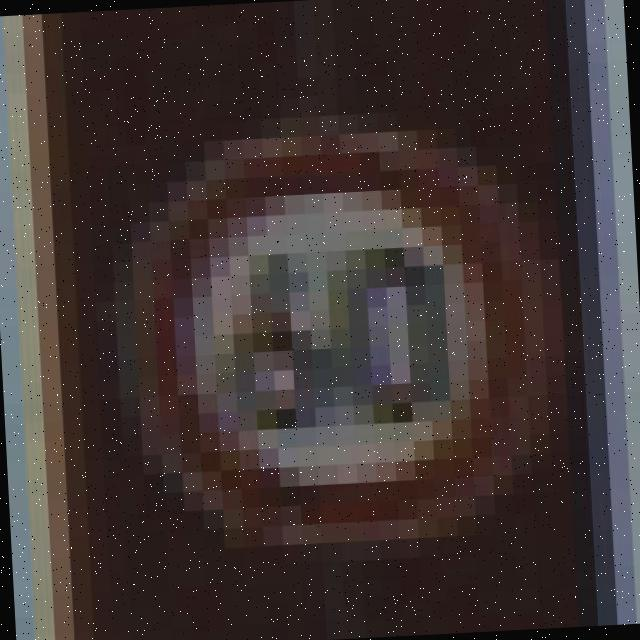Ograniczenie predkosci do 60: (142, 130, 532, 550)
